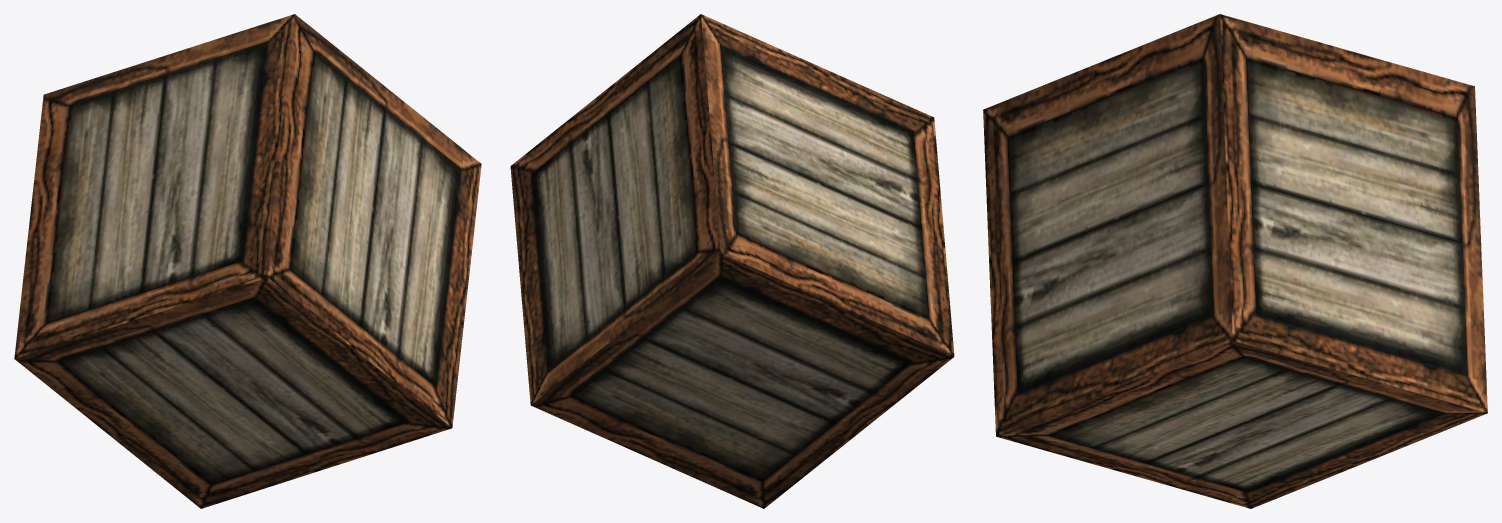
Rendered from INST_LT_CRATE_FLOAT.fbx.
3 views of the same model, side by side, from view 1: azimuth 30°, elevation 25°; view 2: azimuth 150°, elevation 25°; view 3: azimuth 270°, elevation 25° (orthographic). The views are drawn at different scales.
Parts seen in each view (by area): view 1: INST_LT_CRATE_FLOAT; view 2: INST_LT_CRATE_FLOAT; view 3: INST_LT_CRATE_FLOAT.
Boxes of the visible parts, x1,y1,x2,y2 form: INST_LT_CRATE_FLOAT: (14,14,481,508); INST_LT_CRATE_FLOAT: (510,14,954,508); INST_LT_CRATE_FLOAT: (983,14,1487,508).
Bounding box in the file's own units: 12112 × 12096 × 10283.
Materials: 1 (1 with a texture image).
